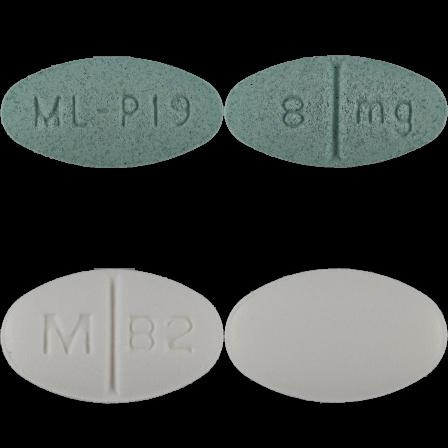50090-0735: (0, 0, 224, 224)
